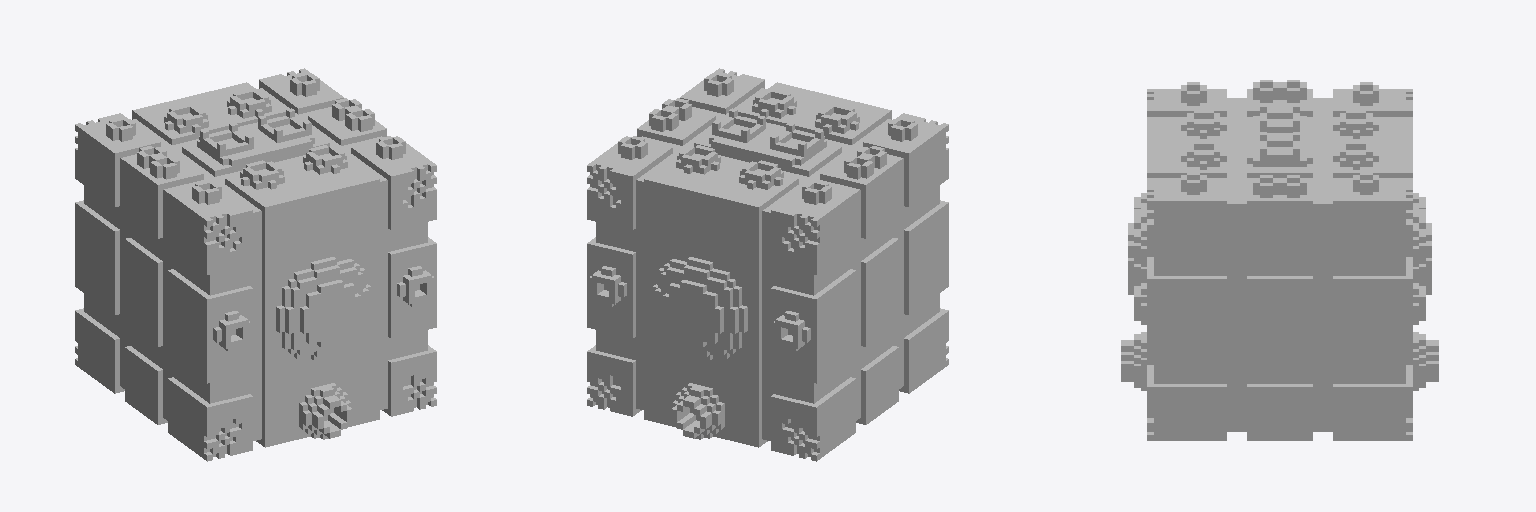
Rendered from The Eye 2.0.obj.
The picture shows the model from 3 angles: view 1: azimuth 30°, elevation 25°; view 2: azimuth 150°, elevation 25°; view 3: azimuth 270°, elevation 25°; orthographic projection.
Visible parts, largest first — view 1: The Eye 2.0; view 2: The Eye 2.0; view 3: The Eye 2.0.
Part boxes in pixels (bbox=[...]): The Eye 2.0: bbox=[75, 68, 436, 461]; The Eye 2.0: bbox=[587, 68, 948, 461]; The Eye 2.0: bbox=[1121, 80, 1438, 440].
Bounding box in the file's own units: 40 × 43 × 48.